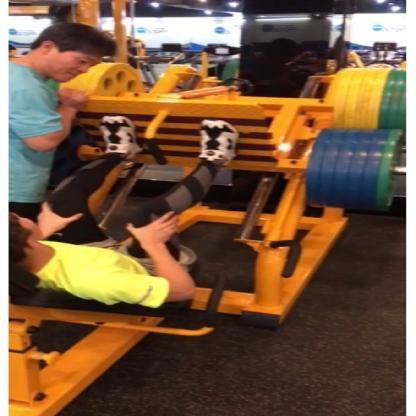leg press: (1, 0, 416, 416)
